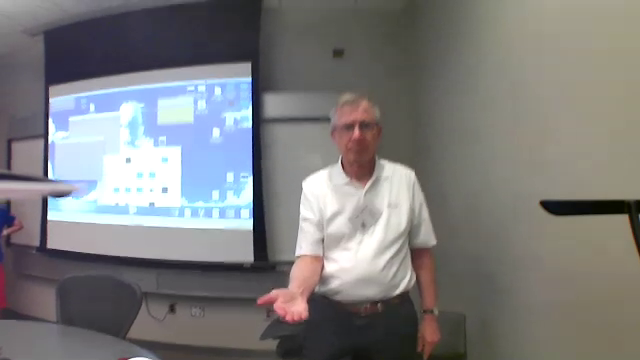land: (248, 282, 323, 329)
